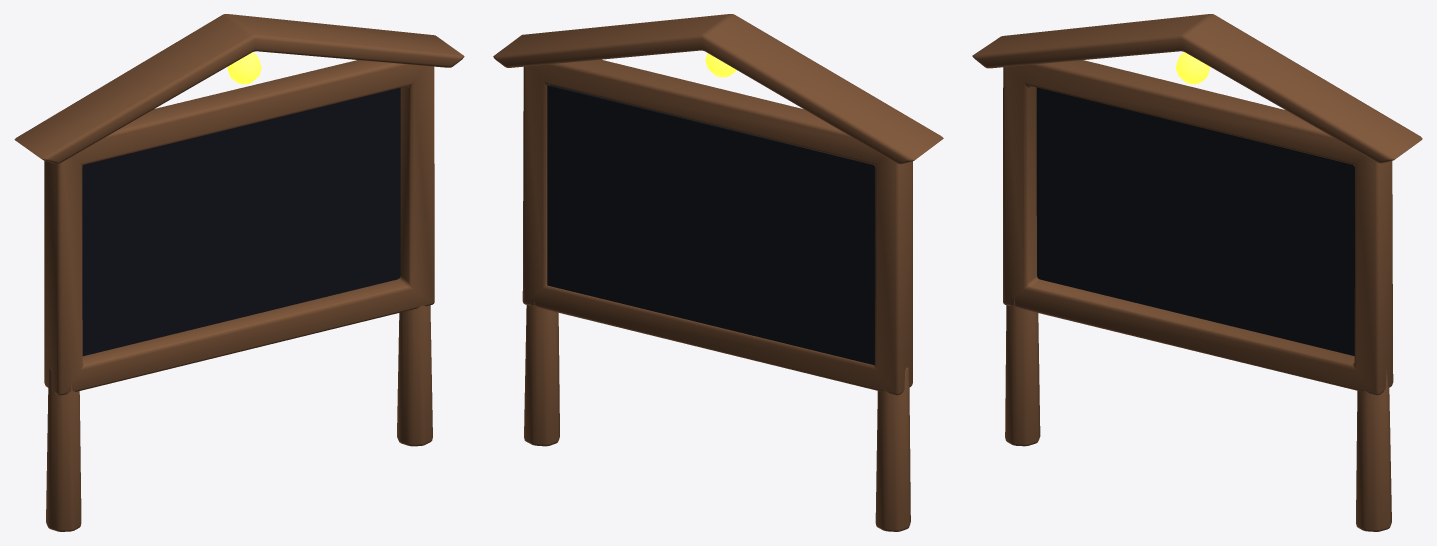
The model's file is CartelRecords.fbx.
The picture shows the model from 3 angles, left to right: view 1: azimuth 30°, elevation 25°; view 2: azimuth 150°, elevation 25°; view 3: azimuth 330°, elevation 25°; orthographic projection.
Visible parts, largest first — view 1: CartelRecords_Madera, CartelRecords_Pantalla, CartelRecords_Luz_Neon; view 2: CartelRecords_Pantalla, CartelRecords_Madera; view 3: CartelRecords_Madera, CartelRecords_Pantalla, CartelRecords_Luz_Neon.
Boxes of the visible parts, bbox=[...] form: CartelRecords_Madera: bbox=[14, 14, 464, 531]; CartelRecords_Pantalla: bbox=[82, 87, 400, 356]; CartelRecords_Luz_Neon: bbox=[227, 52, 261, 84]; CartelRecords_Pantalla: bbox=[547, 85, 875, 365]; CartelRecords_Madera: bbox=[493, 14, 943, 531]; CartelRecords_Madera: bbox=[972, 14, 1422, 531]; CartelRecords_Pantalla: bbox=[1036, 87, 1354, 355]; CartelRecords_Luz_Neon: bbox=[1175, 52, 1210, 84].
Bounding box in the file's own units: 7.75 × 8.03 × 1.
